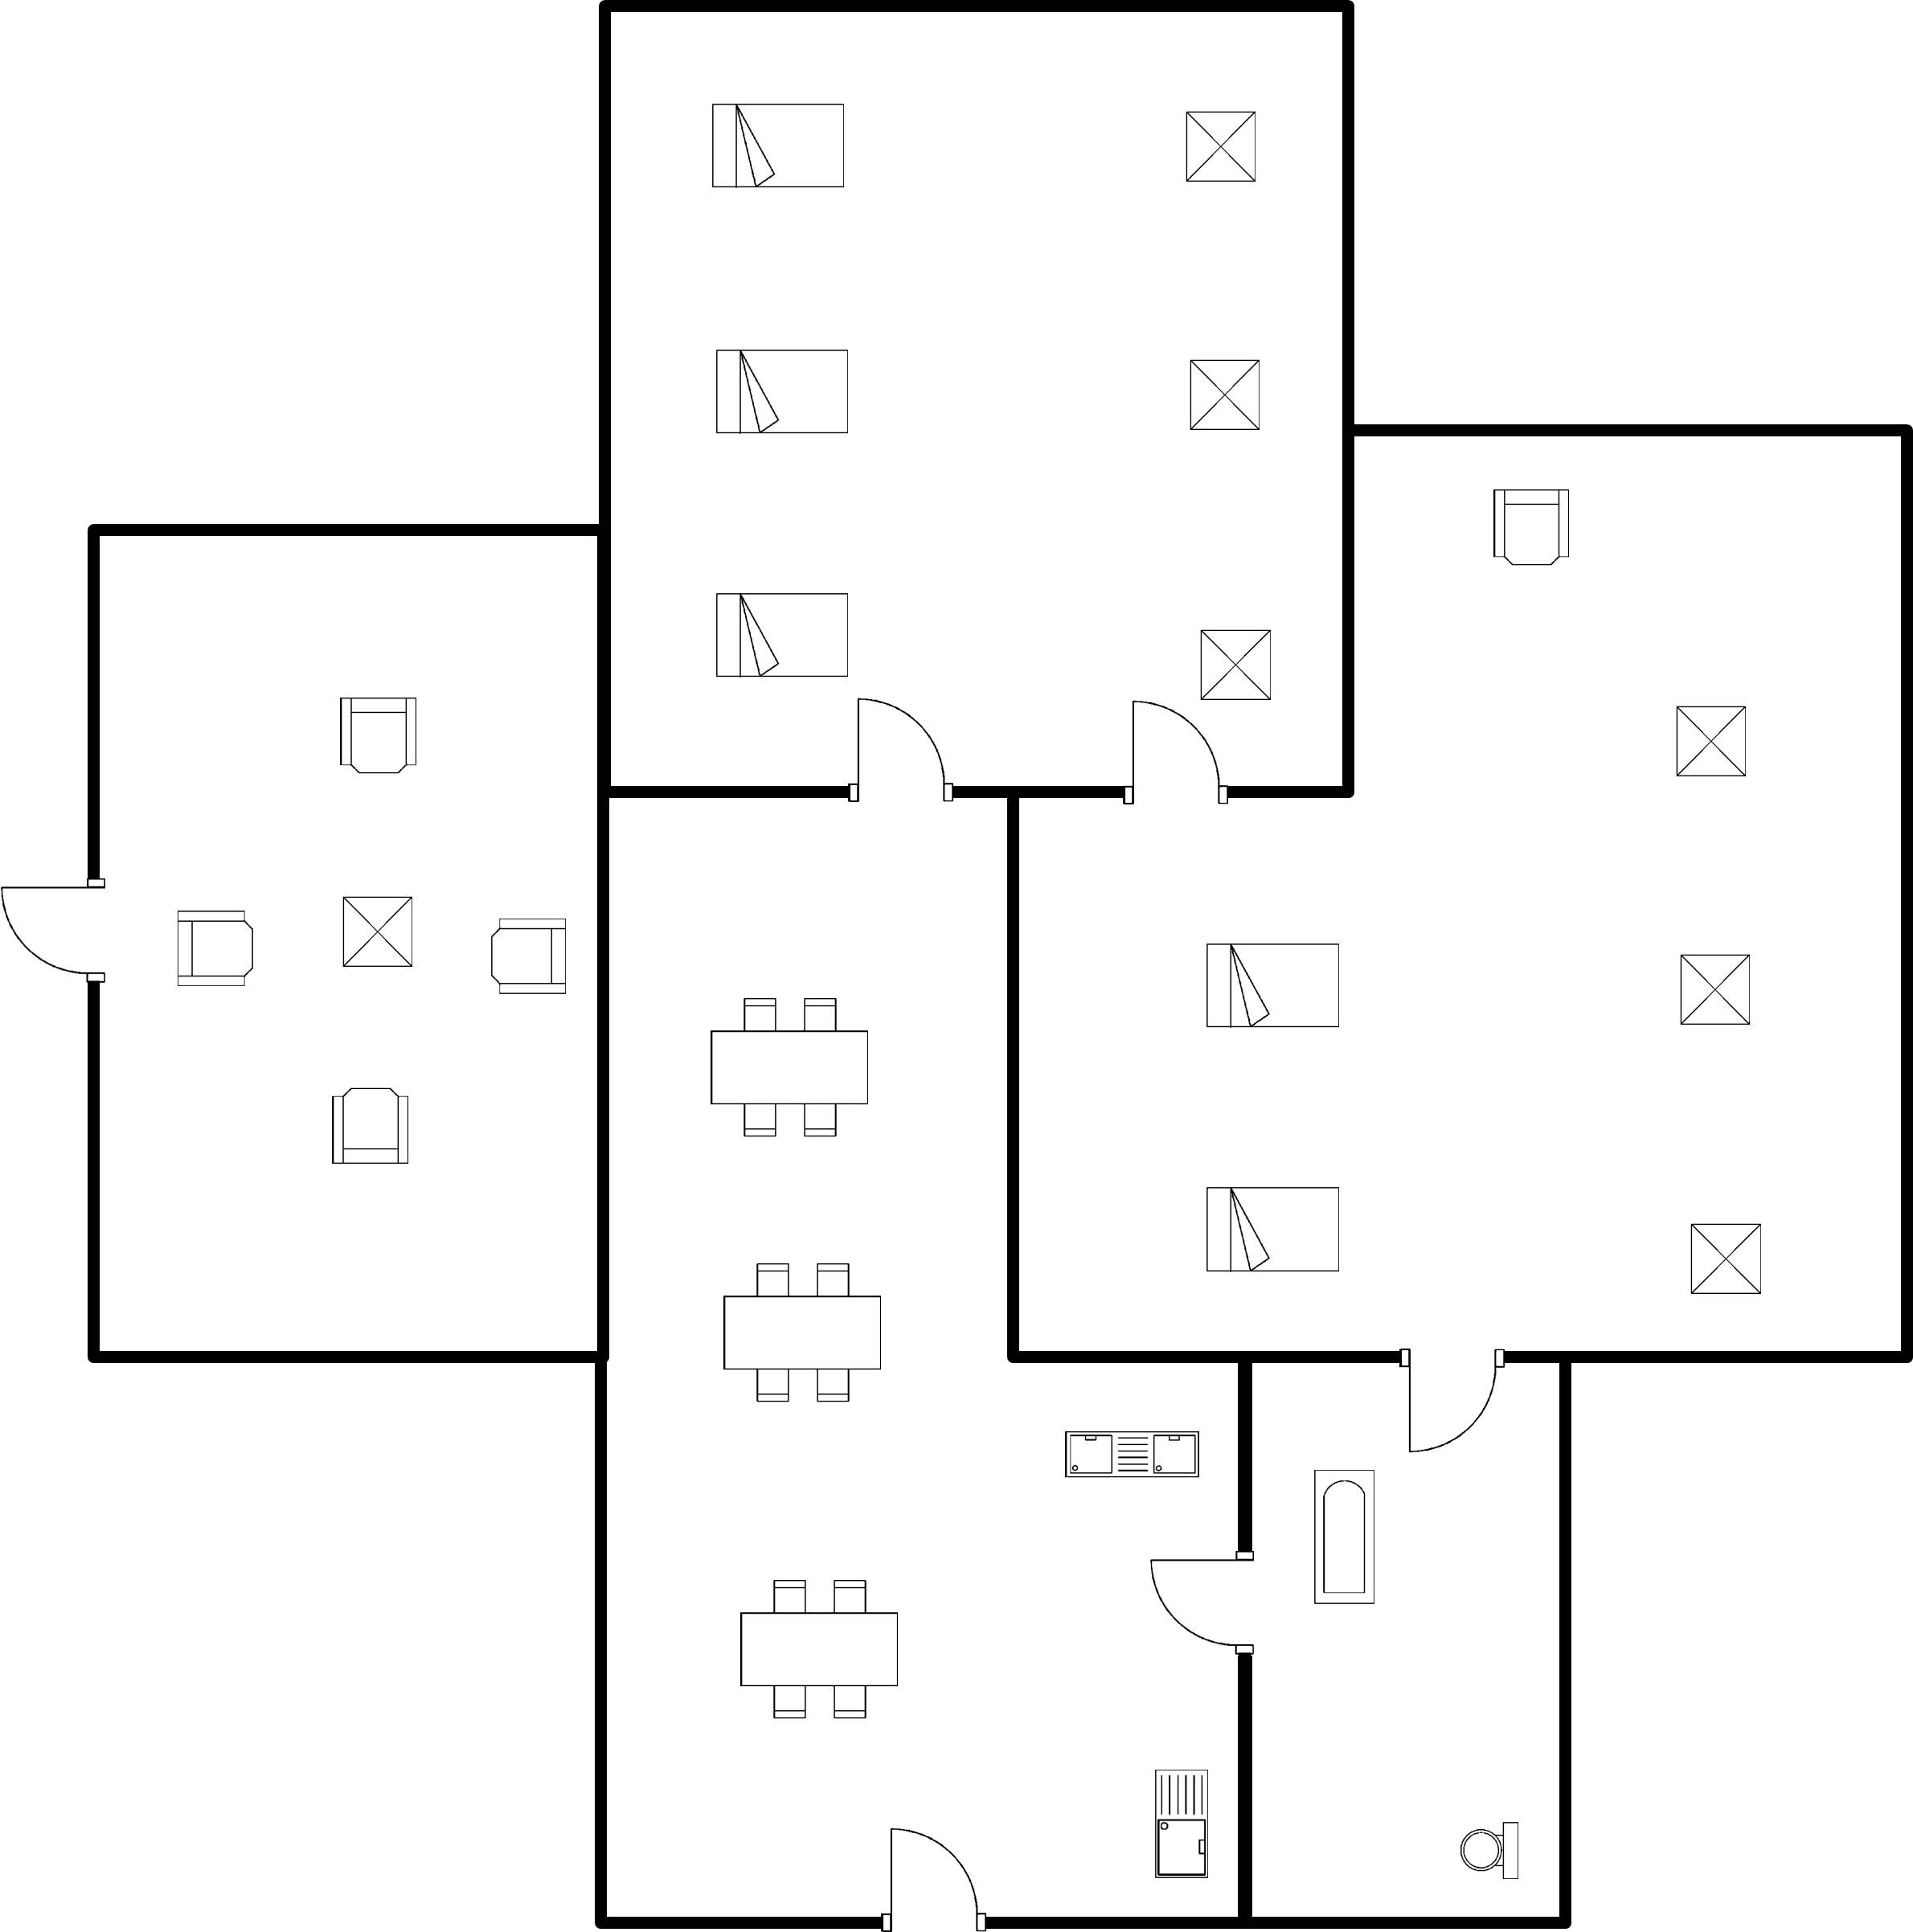armchair: (322, 681, 431, 788), (158, 894, 266, 1000), (312, 1073, 421, 1174), (480, 904, 584, 1008), (1473, 474, 1581, 573)
bed: (1192, 1173, 1357, 1287), (700, 338, 866, 447), (1194, 931, 1355, 1042), (703, 581, 861, 694), (700, 89, 859, 200)
coffee_table: (1667, 941, 1770, 1038), (1665, 692, 1760, 796), (329, 886, 432, 981), (1678, 1209, 1776, 1306), (1179, 346, 1275, 441), (1192, 617, 1282, 717), (1173, 97, 1265, 190)
dining_table: (690, 981, 886, 1152), (719, 1569, 916, 1735), (700, 1249, 894, 1411)
large_sink: (1443, 1811, 1527, 1897)
sink: (1142, 1758, 1223, 1892)
tub: (1300, 1457, 1383, 1618)
twin_sink: (1045, 1417, 1213, 1488)
